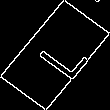L_NW: (24, 27, 86, 83)
